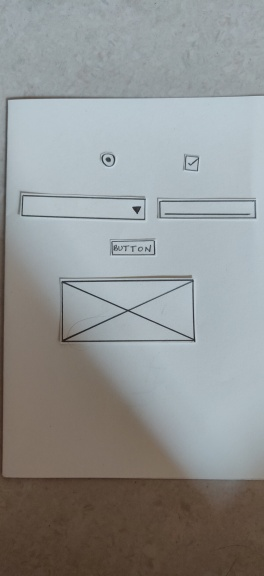button: (109, 238, 157, 257)
checkbox: (181, 151, 200, 175)
dropdown: (17, 190, 147, 225)
img: (56, 275, 199, 346)
radio: (99, 152, 117, 168)
text: (156, 196, 258, 222)
